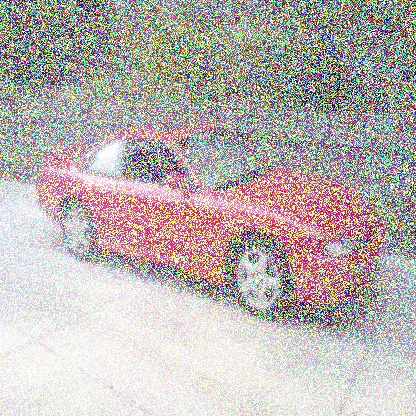Vehicle: (37, 126, 386, 324)
